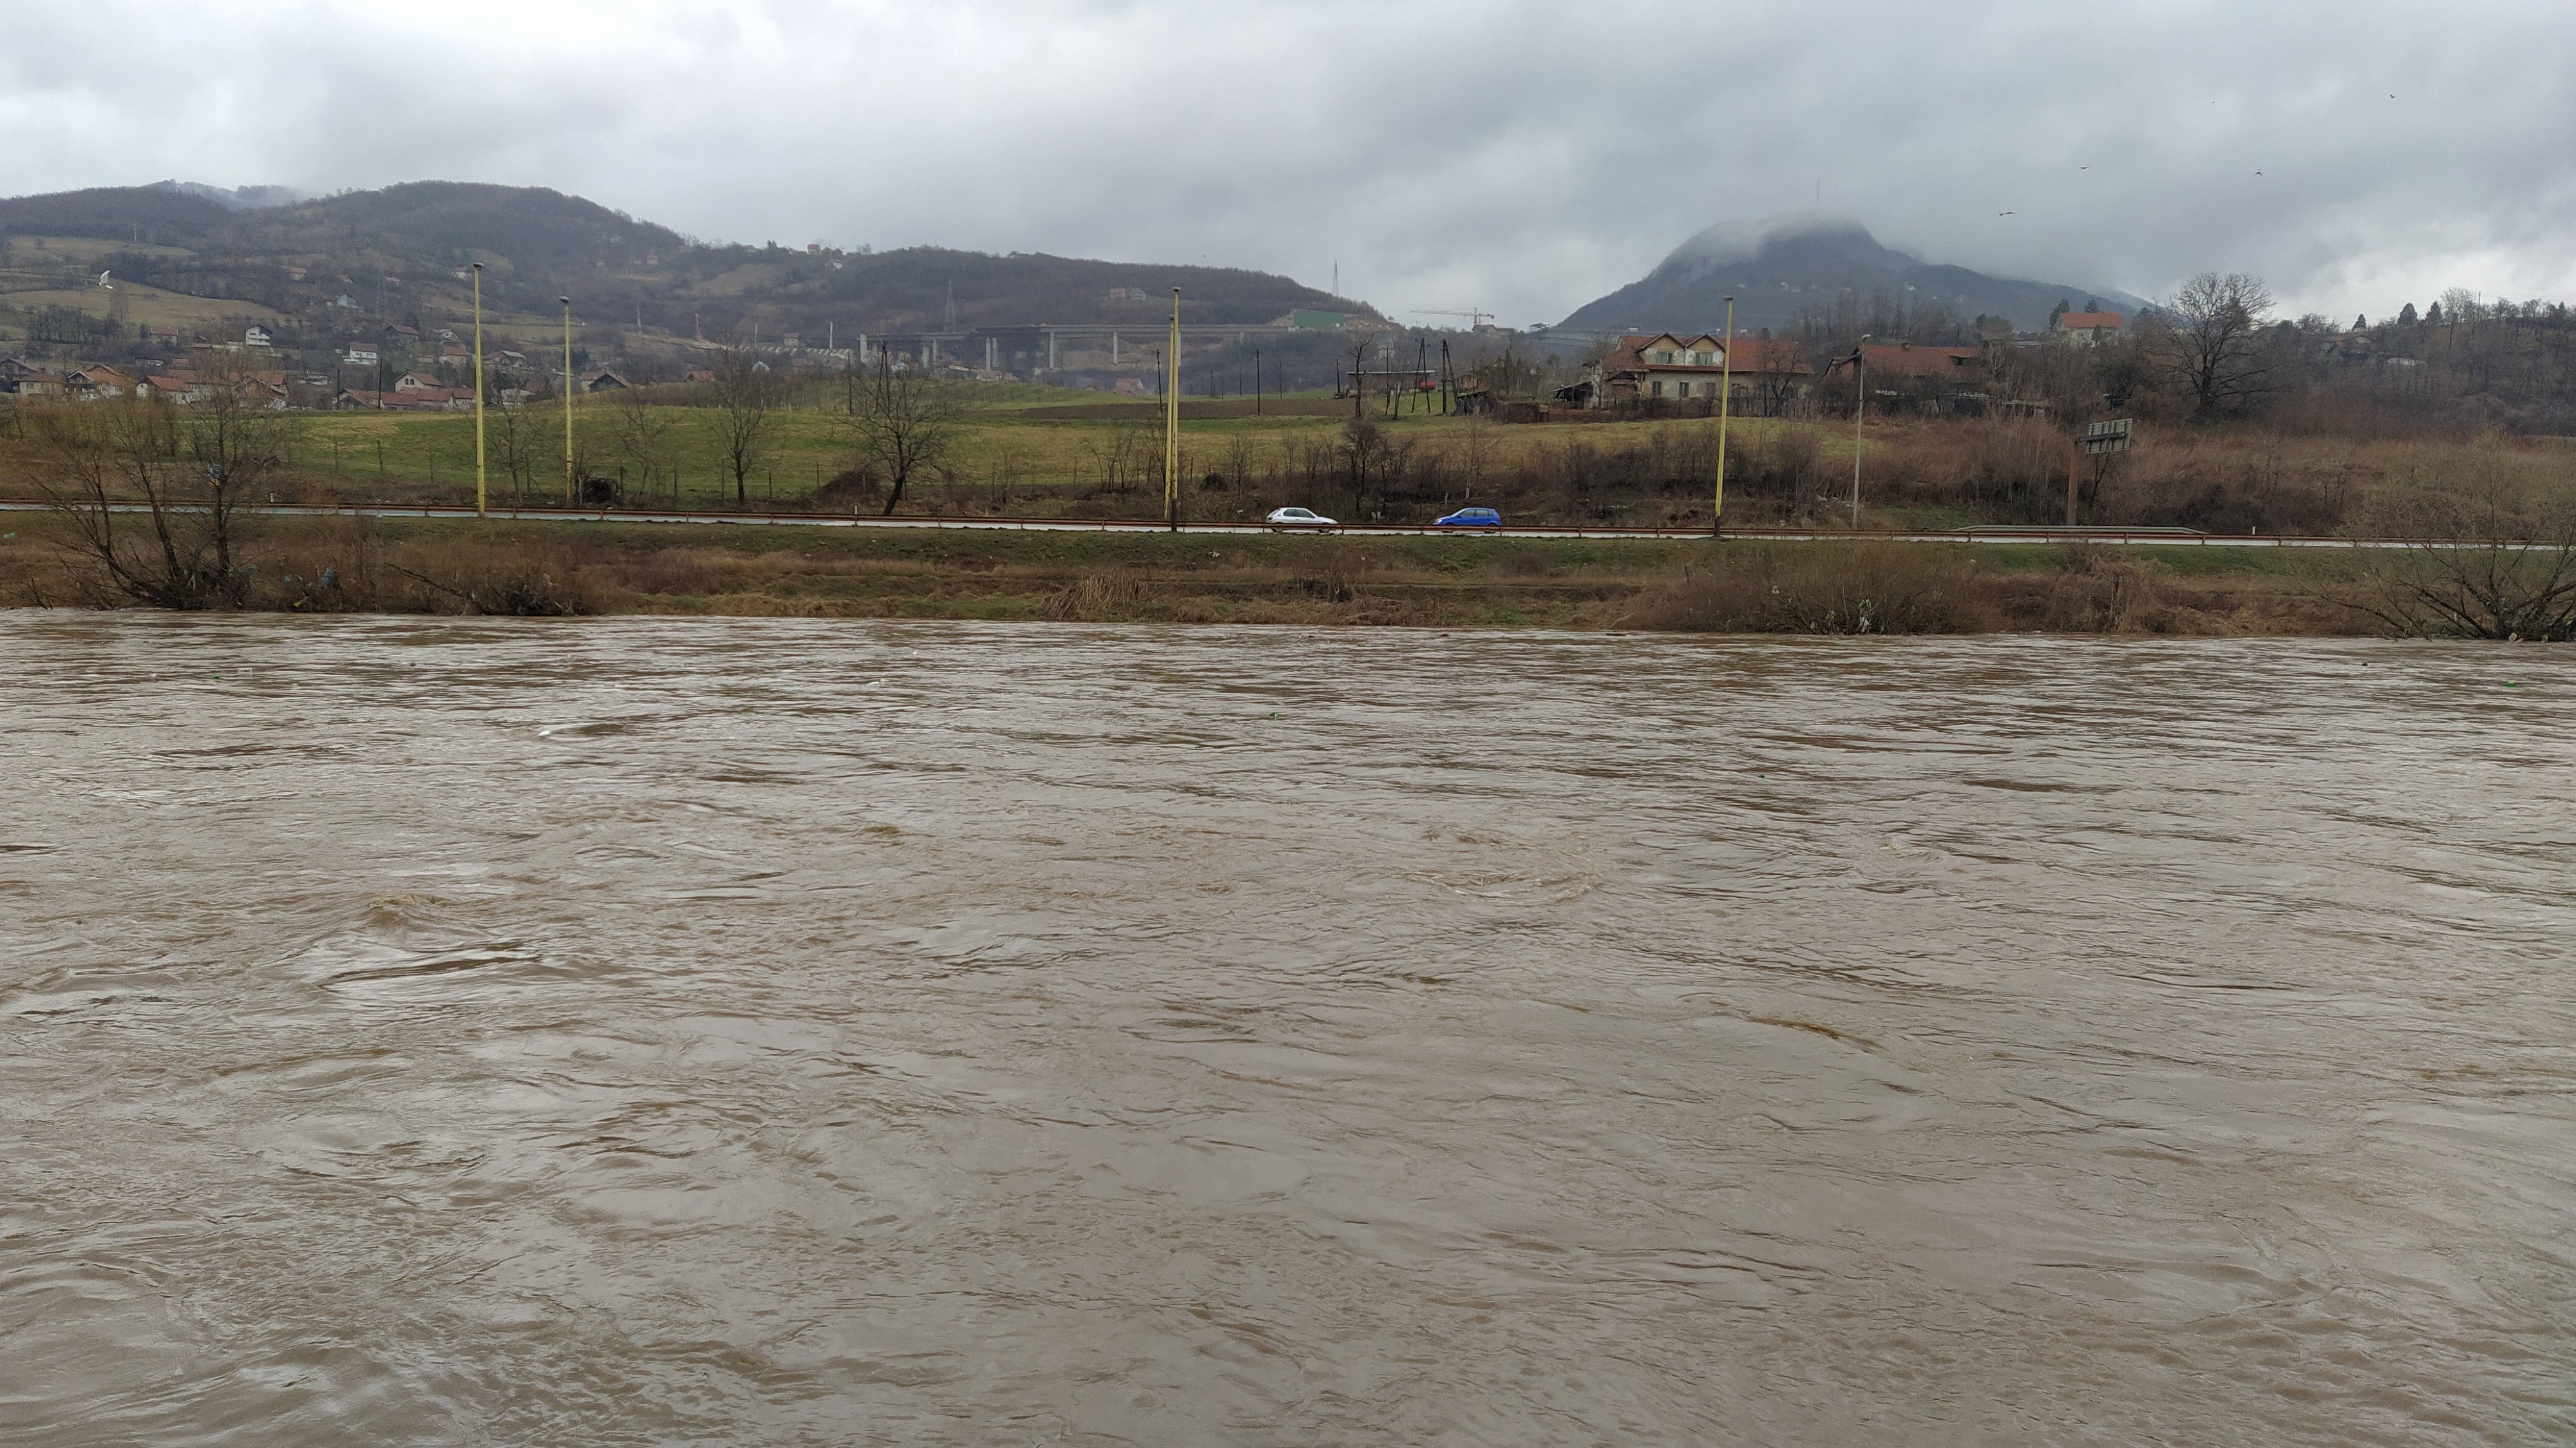Plastic Bottle: (237, 666, 251, 673), (867, 680, 879, 687), (538, 731, 548, 736), (2503, 682, 2514, 687), (1270, 712, 1277, 717), (1440, 634, 1447, 637), (2360, 662, 2367, 666), (212, 674, 218, 678), (410, 662, 416, 666), (1757, 772, 1762, 775), (1359, 644, 1366, 646), (1309, 634, 1311, 637)
